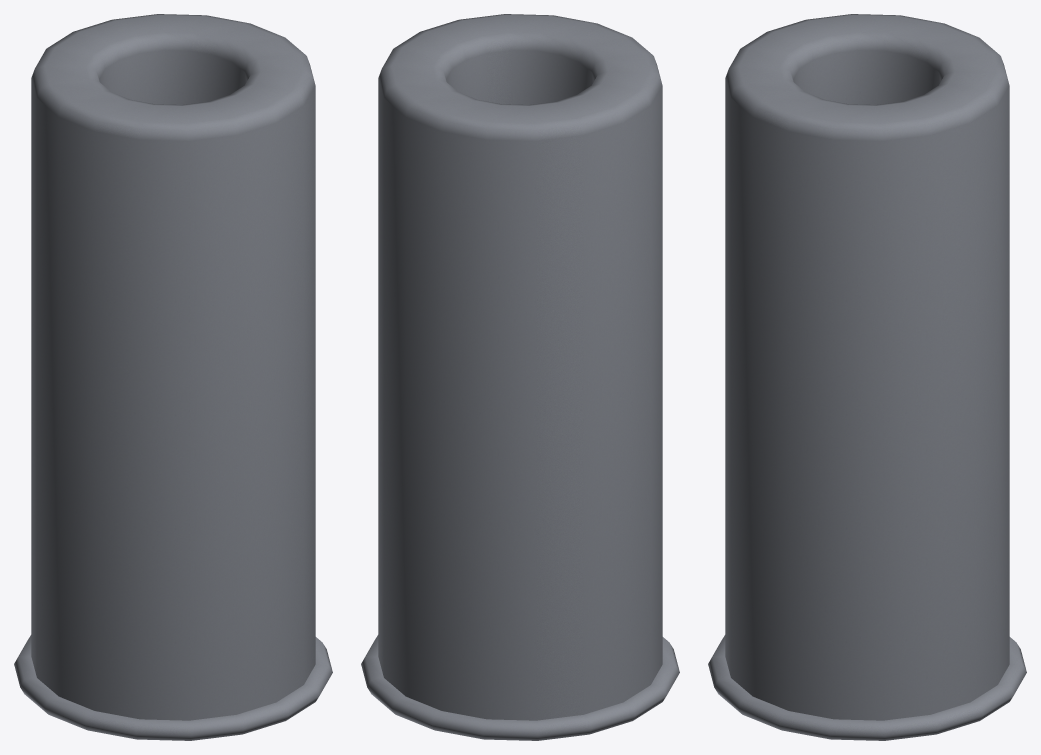
The model's file is waste bin_003.FBX.
The picture shows the model from 3 angles, left to right: view 1: azimuth 30°, elevation 25°; view 2: azimuth 150°, elevation 25°; view 3: azimuth 270°, elevation 25°; orthographic projection.
Visible parts, largest first — view 1: waste bin_003; view 2: waste bin_003; view 3: waste bin_003.
Boxes of the visible parts, x1,y1,x2,y2 form: waste bin_003: [14, 14, 332, 740]; waste bin_003: [361, 14, 679, 740]; waste bin_003: [708, 14, 1026, 740].
Size of the model in its own units: 0.2953 by 0.6221 by 0.2965.
